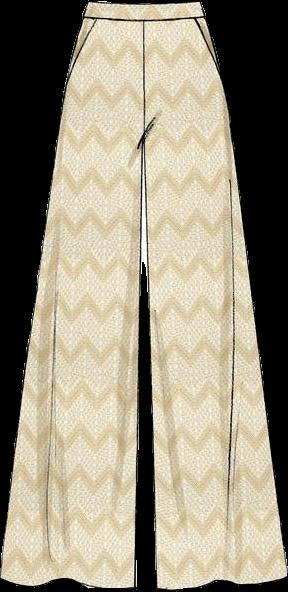Hemline: (0, 572, 140, 591), (155, 571, 287, 591)
Pantleg: (140, 0, 286, 589), (0, 1, 142, 587)
Waistline: (80, 14, 205, 26), (87, 0, 200, 12)
